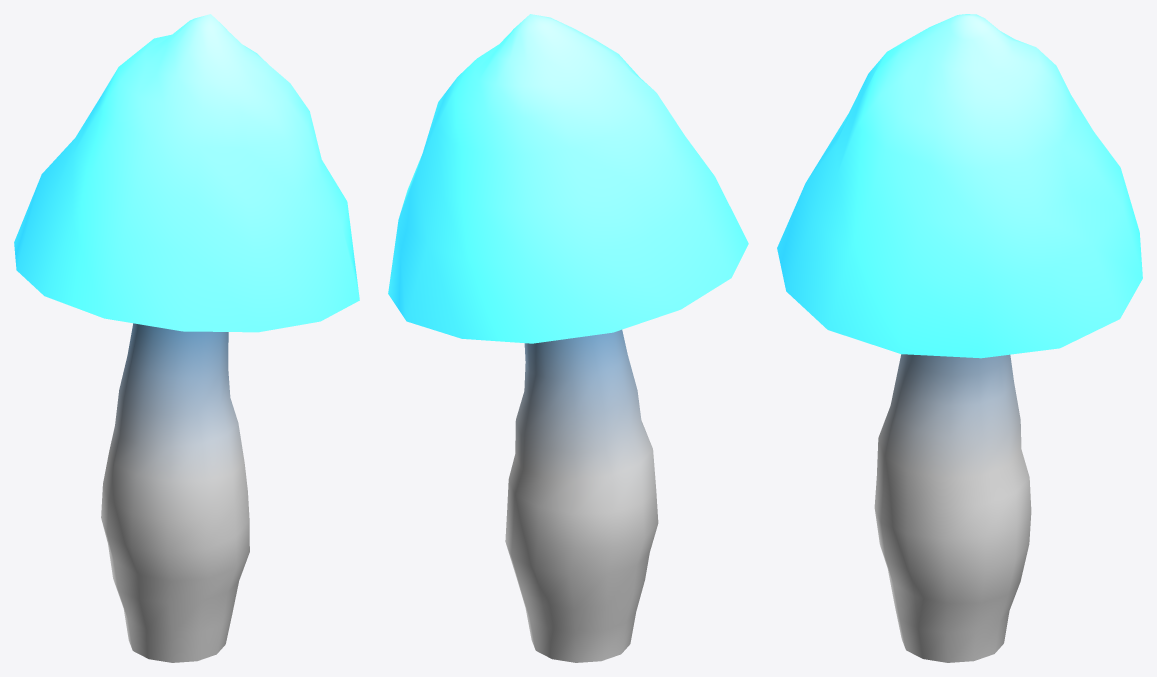
The model's file is mushroom_9.glb.
3 views of the same model, side by side, from view 1: azimuth 30°, elevation 25°; view 2: azimuth 150°, elevation 25°; view 3: azimuth 270°, elevation 25° (orthographic). The views are drawn at different scales.
Parts seen in each view (by area): view 1: geo1; view 2: geo1; view 3: geo1.
Part boxes in pixels (x1,y1,x2,y2): geo1: [14, 14, 359, 662]; geo1: [388, 14, 748, 662]; geo1: [777, 14, 1142, 662].
Size of the model in its own units: 0.2388 by 0.4717 by 0.2421.
